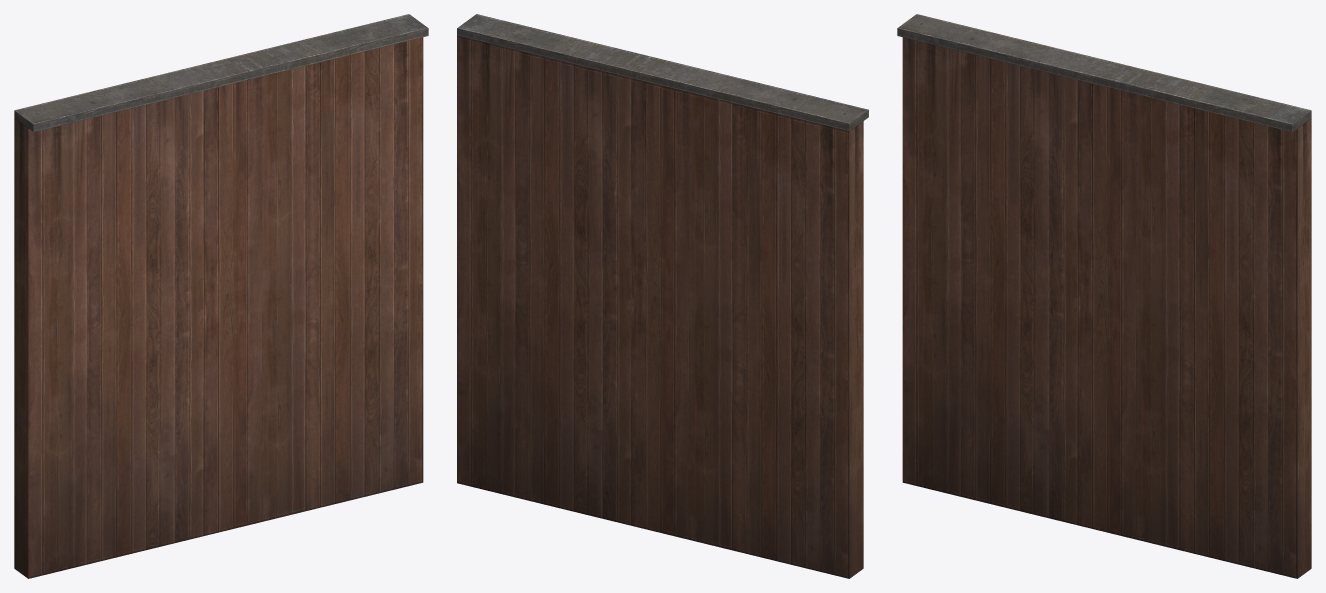
The model's file is bg_lut_lucastle_houseinwall02_sm_phs.FBX.
3 views of the same model, side by side, from view 1: azimuth 30°, elevation 25°; view 2: azimuth 150°, elevation 25°; view 3: azimuth 330°, elevation 25° (orthographic).
Parts seen in each view (by area): view 1: bg_lut_lucastle_houseinwall02_sm_phs; view 2: bg_lut_lucastle_houseinwall02_sm_phs; view 3: bg_lut_lucastle_houseinwall02_sm_phs.
Boxes of the visible parts, x1,y1,x2,y2 form: bg_lut_lucastle_houseinwall02_sm_phs: (14, 14, 428, 578); bg_lut_lucastle_houseinwall02_sm_phs: (457, 14, 868, 578); bg_lut_lucastle_houseinwall02_sm_phs: (897, 14, 1311, 578).
Bounding box in the file's own units: 384 × 426 × 32.97.
